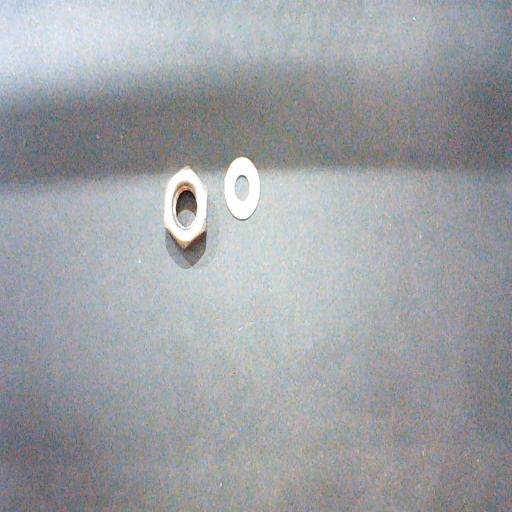nut: (163, 166, 208, 249)
washer: (225, 156, 259, 220)
